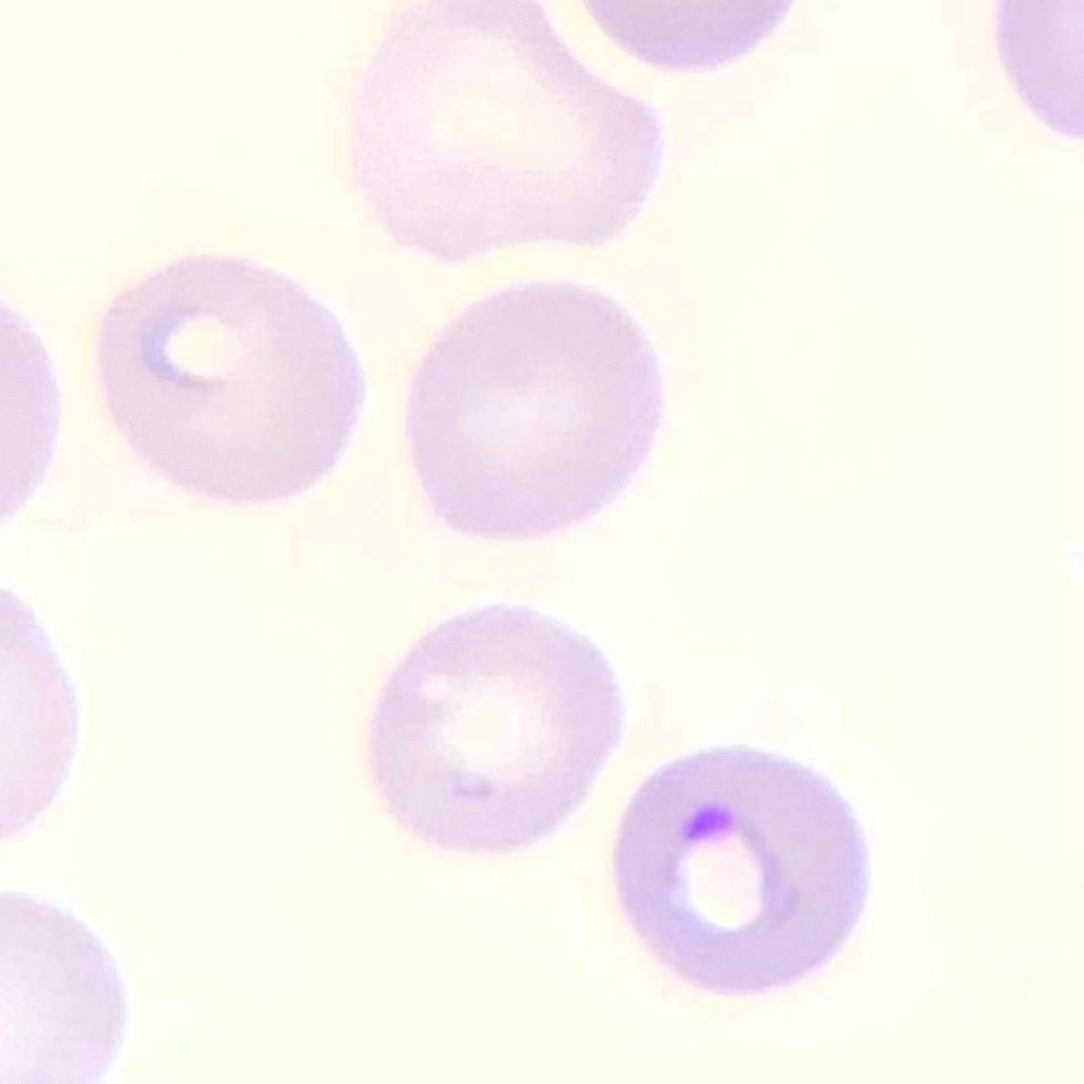Infected: (613, 750, 875, 995)
Uninfected: (349, 9, 659, 261), (410, 278, 666, 540), (94, 256, 363, 505), (371, 598, 621, 855)
